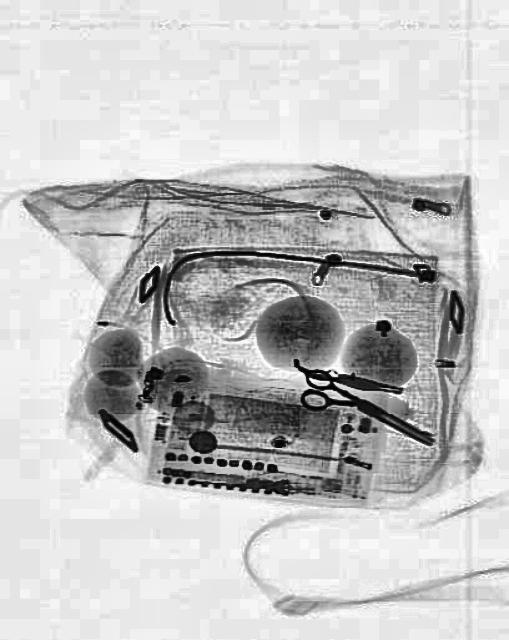Scissors: (294, 364, 438, 458)
